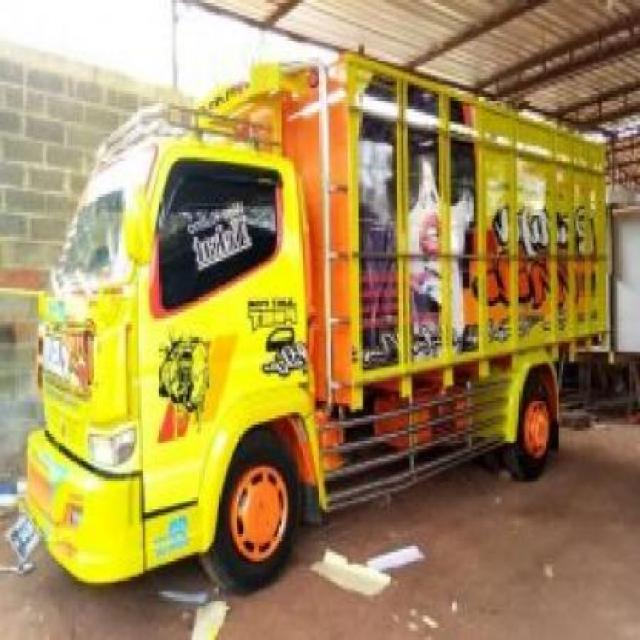truck: (22, 50, 618, 596)
